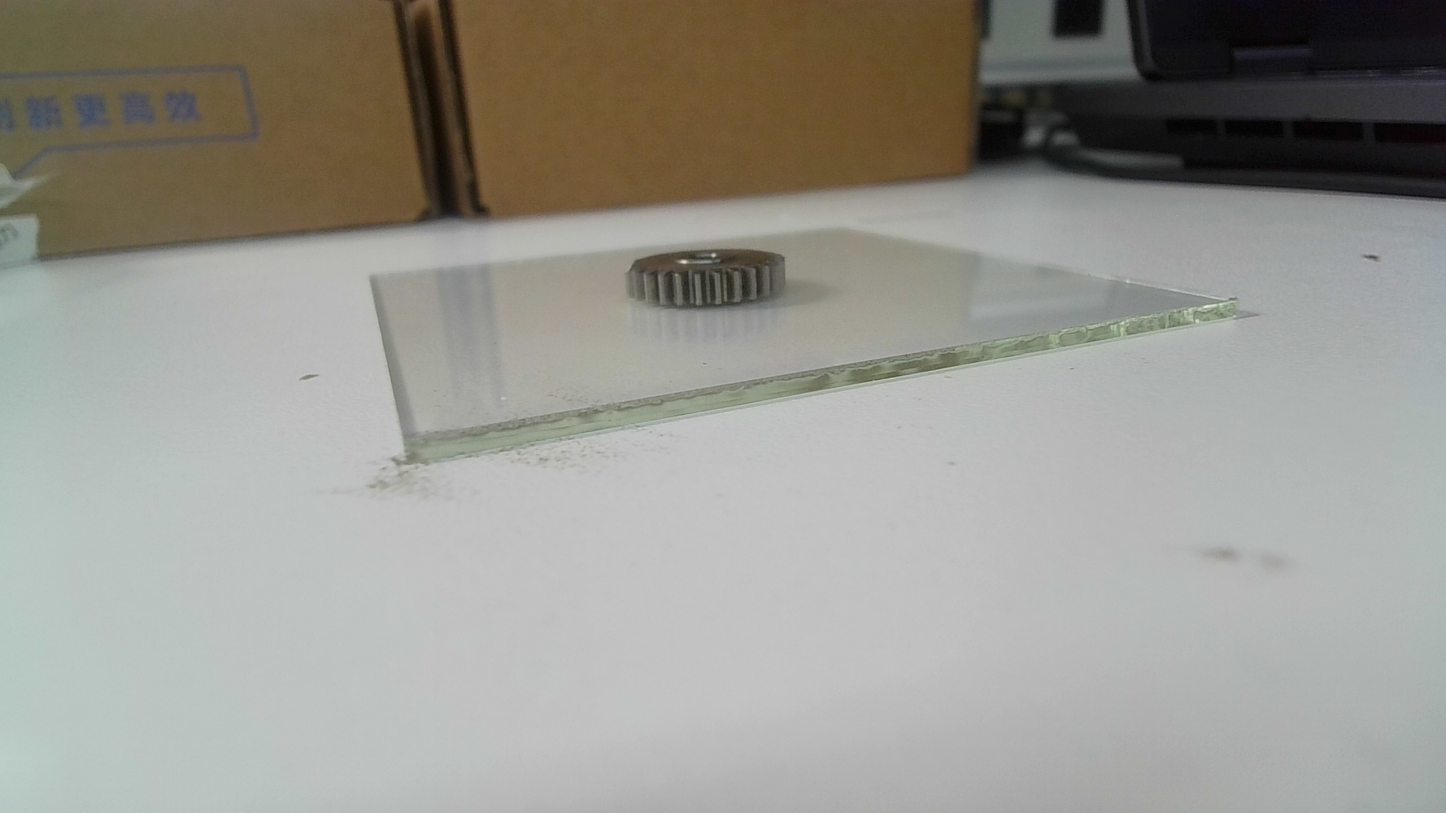gear: (621, 243, 793, 313)
